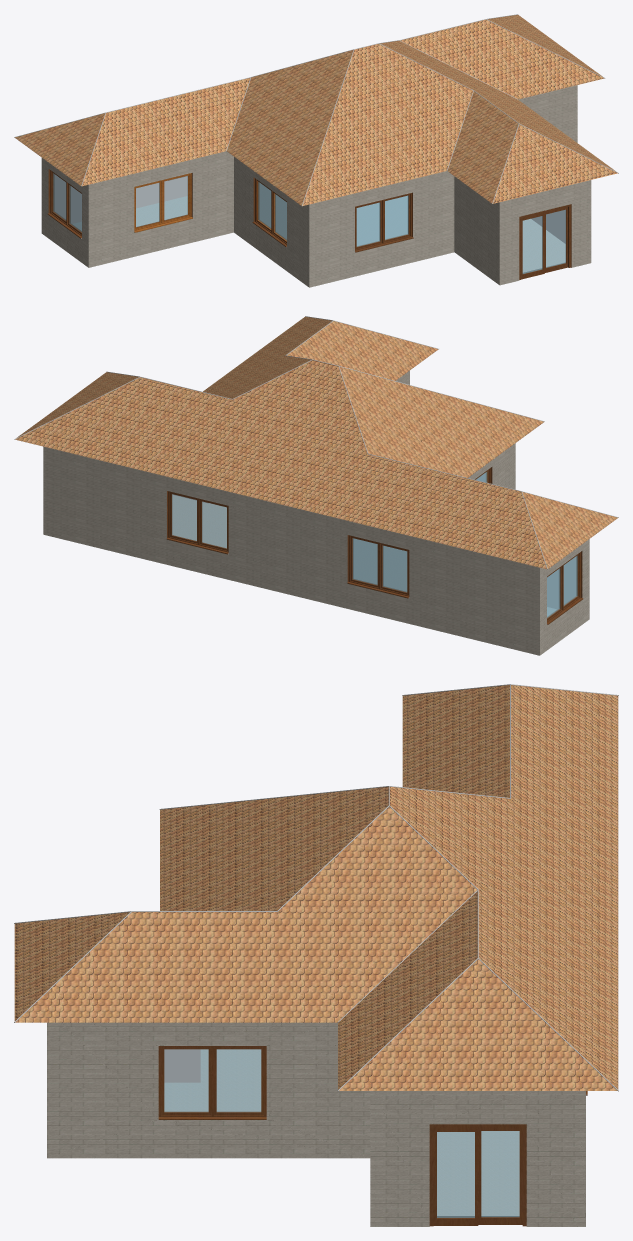
File: telhado37N.glb
3 renders of one model, top to bottom at view 1: azimuth 30°, elevation 25°; view 2: azimuth 150°, elevation 25°; view 3: azimuth 270°, elevation 25°, orthographic. The views are drawn at different scales.
Visible parts, largest first — view 1: root; view 2: root; view 3: root.
Boxes of the visible parts, bbox=[...] form: root: bbox=[15, 15, 617, 287]; root: bbox=[15, 316, 617, 655]; root: bbox=[14, 685, 618, 1226].
Size of the model in its own units: 17.37 by 5.53 by 11.22.
Materials: 14 (5 with a texture image).
